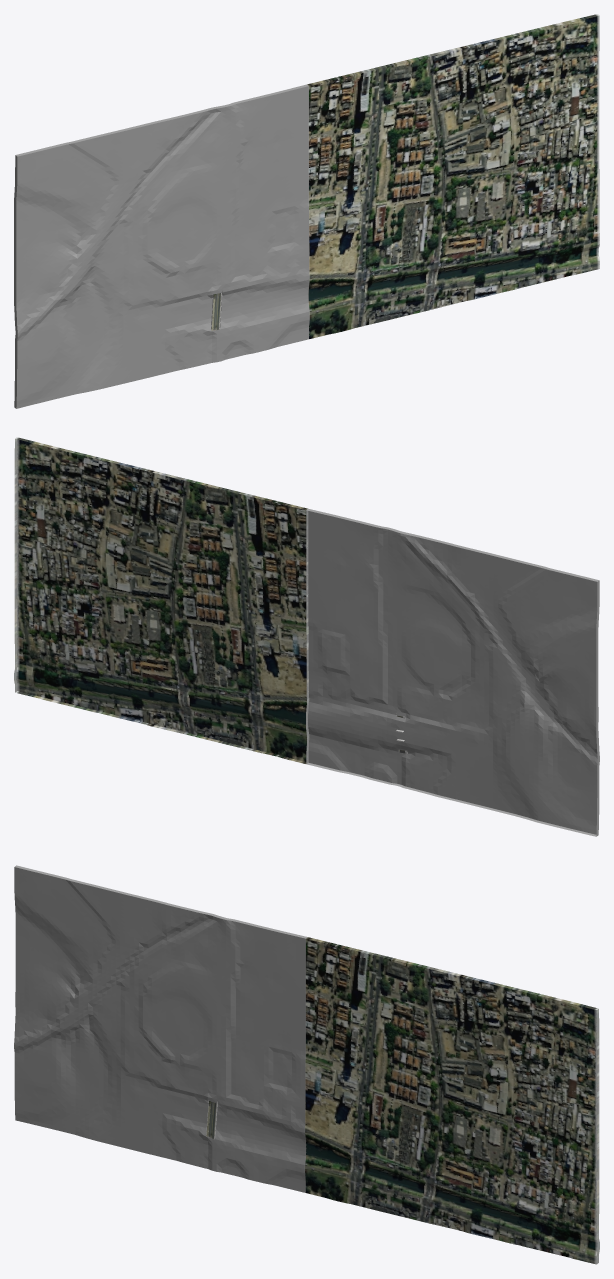
Rendered from novo4.dae.
The picture shows the model from 3 angles, top to bottom: view 1: azimuth 30°, elevation 25°; view 2: azimuth 150°, elevation 25°; view 3: azimuth 330°, elevation 25°; orthographic projection.
Parts seen in each view (by area): view 1: node; view 2: node; view 3: node.
Boxes of the visible parts, x1=… form: node: x1=14, y1=14, x2=599, y2=408; node: x1=14, y1=437, x2=599, y2=836; node: x1=14, y1=865, x2=599, y2=1264.
Size of the model in its own units: 1341 by 558 by 20.38.
